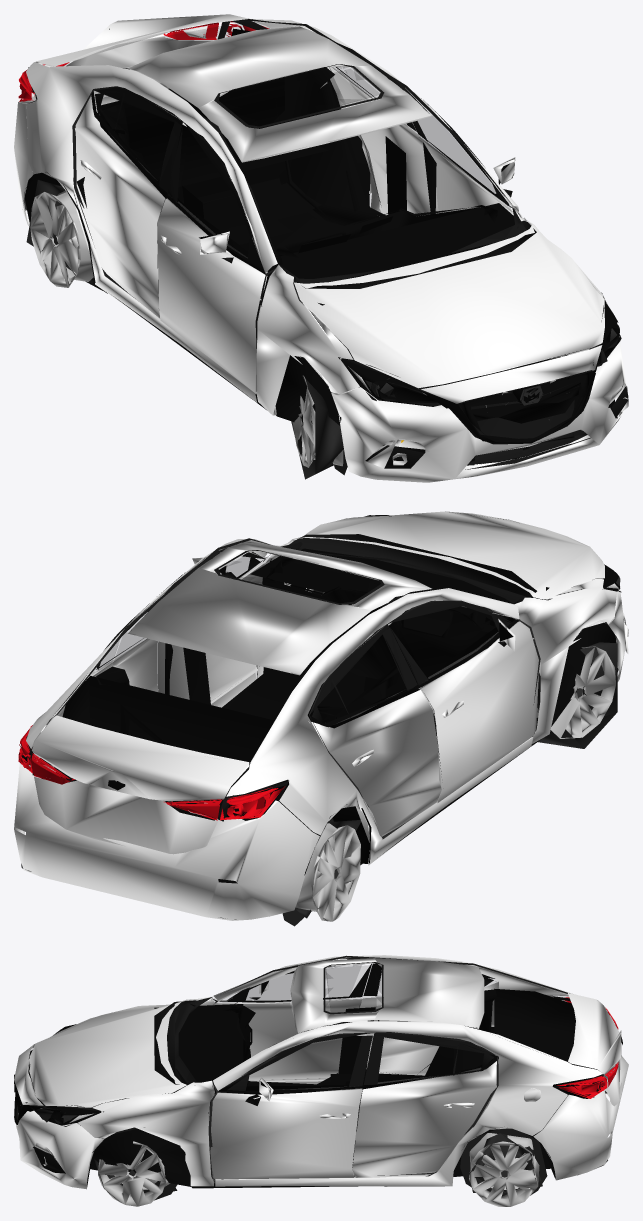
File: sedan_mazda3_lod3.glb
3 renders of one model, top to bottom at view 1: azimuth 30°, elevation 25°; view 2: azimuth 150°, elevation 25°; view 3: azimuth 270°, elevation 25°, orthographic. The views are drawn at different scales.
Visible parts, largest first — view 1: object.001_bod_0, object.003_chrome_0, object.013_gl_0, object.008_Material.005_0, wheel.004_Material.016_0, wheel.004_Material.018_0, object.014_Material.006_0, object.002_Material.009_0, object.009_Material.002_0, object_Material.010_0; view 2: object.001_bod_0, object.003_chrome_0, object.013_gl_0, object.008_Material.005_0, wheel.004_Material.016_0, object.002_Material.009_0, wheel.004_Material.018_0, object.014_Material.006_0; view 3: object.001_bod_0, object.013_gl_0, object.003_chrome_0, object.008_Material.005_0, wheel.004_Material.016_0, wheel.004_Material.018_0, object.014_Material.006_0, object.002_Material.009_0, object.009_Material.002_0.
Boxes of the visible parts, bbox=[...] form: object.001_bod_0: bbox=[14, 14, 627, 482]; object.003_chrome_0: bbox=[24, 27, 620, 468]; object.013_gl_0: bbox=[64, 22, 514, 278]; object.008_Material.005_0: bbox=[27, 18, 628, 469]; wheel.004_Material.016_0: bbox=[30, 190, 589, 467]; wheel.004_Material.018_0: bbox=[26, 180, 601, 479]; object.014_Material.006_0: bbox=[72, 67, 525, 348]; object.002_Material.009_0: bbox=[18, 21, 269, 101]; object.009_Material.002_0: bbox=[23, 69, 619, 405]; object_Material.010_0: bbox=[44, 25, 628, 465]; object.001_bod_0: bbox=[14, 511, 628, 920]; object.003_chrome_0: bbox=[21, 515, 620, 883]; object.013_gl_0: bbox=[60, 542, 510, 761]; object.008_Material.005_0: bbox=[26, 515, 621, 821]; wheel.004_Material.016_0: bbox=[295, 588, 615, 921]; object.002_Material.009_0: bbox=[18, 725, 284, 820]; wheel.004_Material.018_0: bbox=[282, 588, 617, 926]; object.014_Material.006_0: bbox=[157, 554, 552, 838]; object.001_bod_0: bbox=[14, 955, 628, 1189]; object.013_gl_0: bbox=[179, 963, 575, 1089]; object.003_chrome_0: bbox=[14, 980, 622, 1188]; object.008_Material.005_0: bbox=[16, 955, 603, 1172]; wheel.004_Material.016_0: bbox=[98, 1133, 539, 1206]; wheel.004_Material.018_0: bbox=[94, 1093, 547, 1200]; object.014_Material.006_0: bbox=[208, 998, 498, 1183]; object.002_Material.009_0: bbox=[557, 997, 618, 1098]; object.009_Material.002_0: bbox=[61, 996, 607, 1175].
Size of what is drawn, in the model's own units: 1.99 by 1.48 by 4.54.
